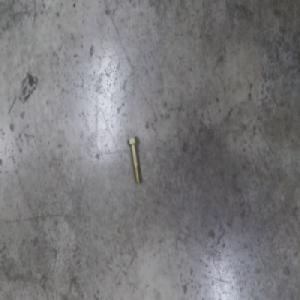Bolt: (127, 134, 142, 184)
